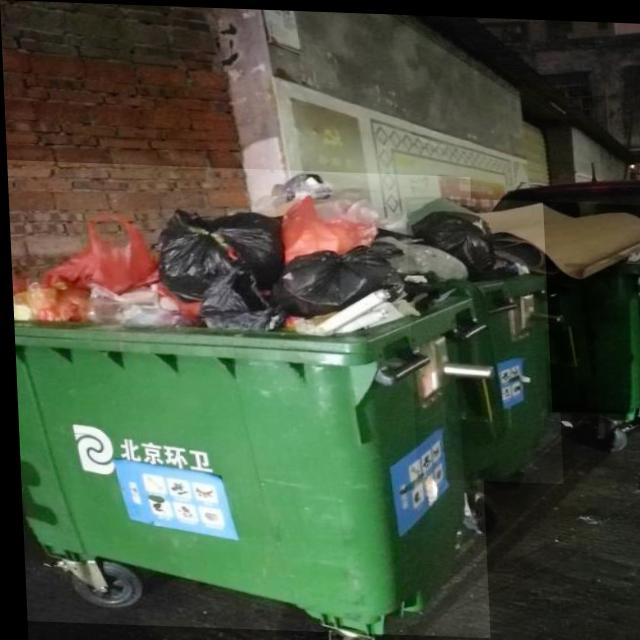overflow: (6, 160, 485, 634), (403, 194, 559, 480), (541, 198, 640, 411)
